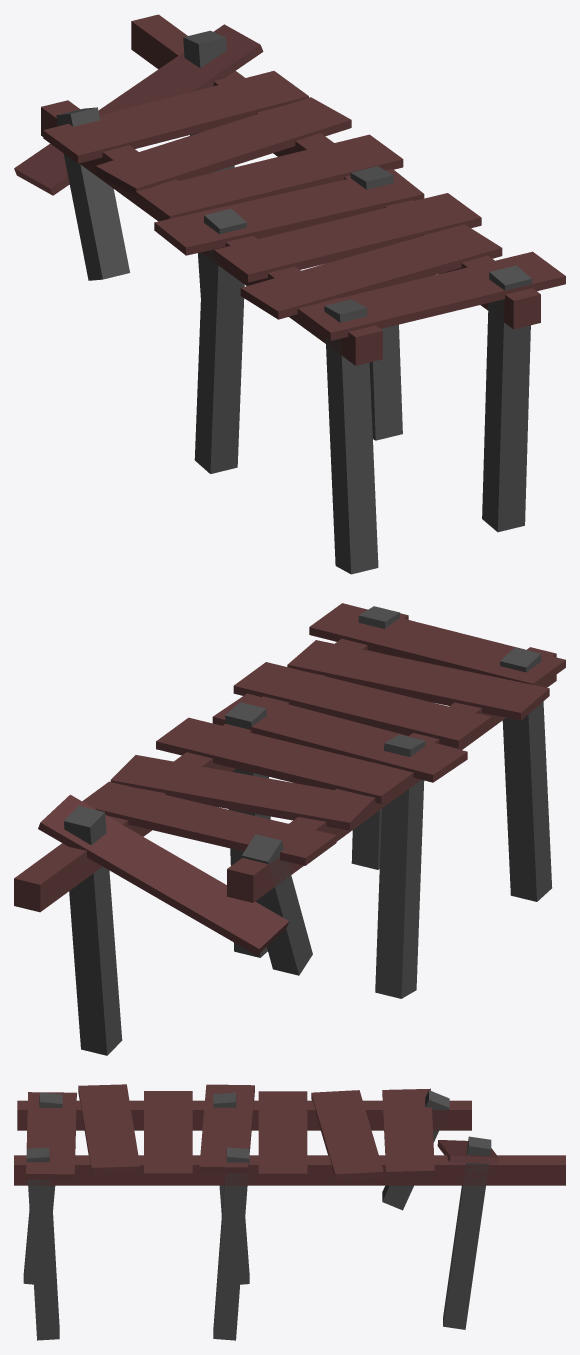
Rendered from steg.fbx.
3 renders of one model, top to bottom at view 1: azimuth 30°, elevation 25°; view 2: azimuth 150°, elevation 25°; view 3: azimuth 270°, elevation 25°, orthographic. The views are drawn at different scales.
Parts seen in each view (by area): view 1: stuetze_3, stuetze, stuetze_4, brett_6, brett_5, brett_2, brett_1, brett_4, brett, brett_3, brett_7, stuetze_5 (+4 smaller); view 2: brett_7, stuetze_4, brett_4, brett_5, brett_2, brett_1, stuetze_2, stuetze_3, brett_6, brett, brett_3, laengs (+4 smaller); view 3: laengs, brett_5, brett_1, brett_4, stuetze_2, brett_2, stuetze_1, brett_6, stuetze, brett_3, brett, laengs_1 (+4 smaller).
Part boxes in pixels (x1,y1,x2,y2): stuetze_3: (324,299,378,574); stuetze: (482,265,532,532); stuetze_4: (194,208,246,473); brett_6: (43,71,308,163); brett_5: (95,97,351,196); brett_2: (214,193,481,282); brett_1: (240,224,502,319); brett_4: (136,134,403,219); brett: (297,251,565,340); brett_3: (154,169,424,255); brett_7: (14,24,263,195); stuetze_5: (56,107,129,280); brett_7: (38,794,288,955); stuetze_4: (375,734,425,998); brett_4: (156,717,413,803); brett_5: (110,755,375,830); brett_2: (233,662,491,748); brett_1: (287,640,549,720); stuetze_2: (64,806,122,1055); stuetze_3: (500,647,552,901); brett_6: (82,781,336,865); brett: (309,603,565,686); brett_3: (212,693,467,782); laengs: (14,613,408,912); laengs: (14,1155,565,1185); brett_5: (311,1090,383,1180); brett_1: (78,1084,140,1173); brett_4: (258,1091,307,1179); stuetze_2: (443,1136,491,1329); brett_2: (144,1091,192,1179); stuetze_1: (213,1147,249,1340); brett_6: (382,1088,434,1177); stuetze: (26,1147,59,1340); brett_3: (199,1084,254,1173); brett: (26,1092,76,1180); laengs_1: (17,1100,471,1130).
Size of what is drawn, in the model's own units: 657 by 661 by 1700.
